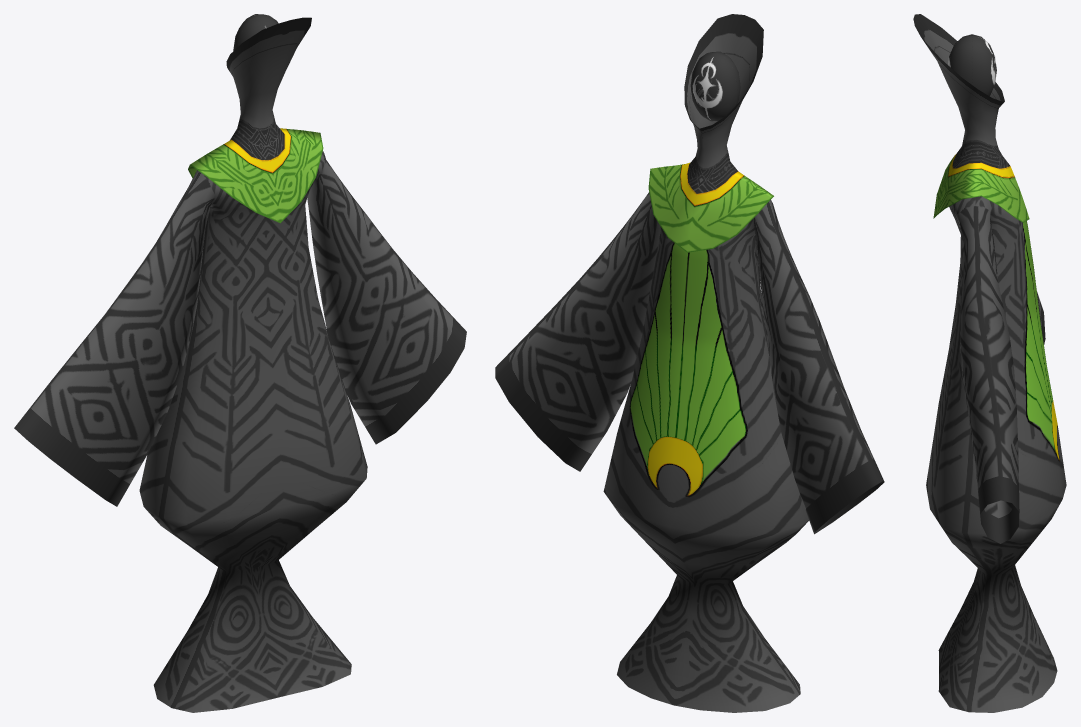
File: maya_Pope.fbx
3 renders of one model, left to right at view 1: azimuth 30°, elevation 25°; view 2: azimuth 150°, elevation 25°; view 3: azimuth 270°, elevation 25°, orthographic. The views are drawn at different scales.
Visible parts, largest first — view 1: maya_Pope; view 2: maya_Pope; view 3: maya_Pope.
Boxes of the visible parts, <box> form: maya_Pope: <box>14,14,466,712</box>; maya_Pope: <box>495,14,884,712</box>; maya_Pope: <box>913,14,1066,712</box>.
Bounding box in the file's own units: 783 × 1184 × 252.
